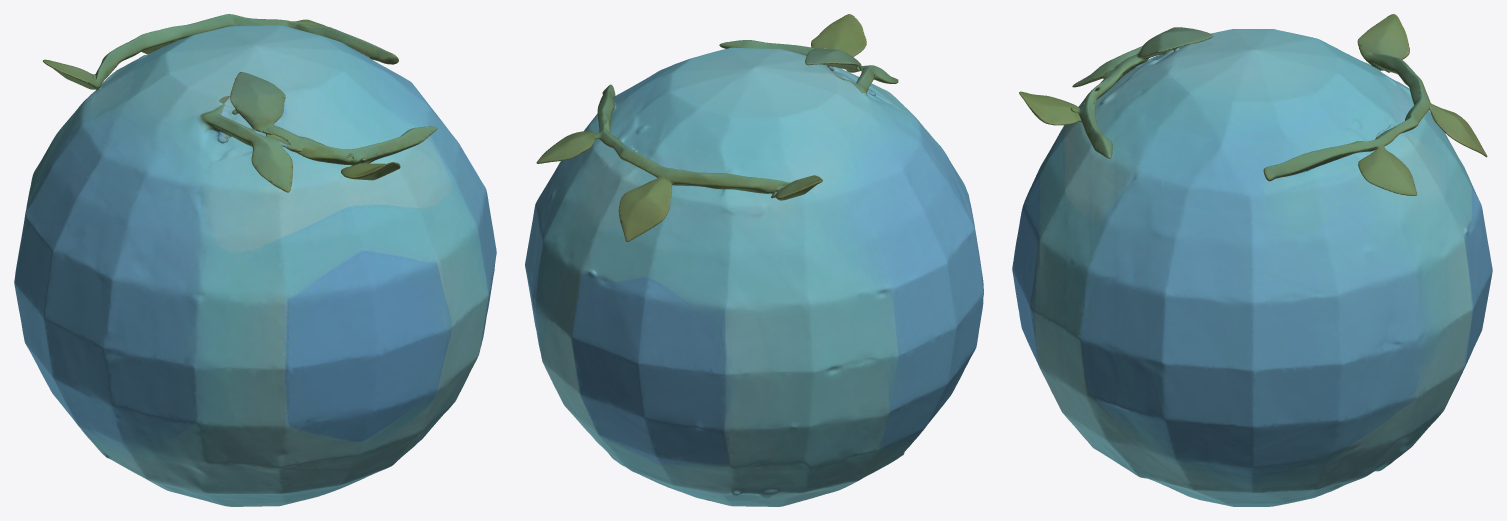
The model's file is rim_wisp.glb.
The picture shows the model from 3 angles, left to right: view 1: azimuth 30°, elevation 25°; view 2: azimuth 150°, elevation 25°; view 3: azimuth 270°, elevation 25°; orthographic projection. The views are drawn at different scales.
Visible parts, largest first — view 1: tripo_node_d36a73a2-6323-48ec-b57c-e87cc005312a; view 2: tripo_node_d36a73a2-6323-48ec-b57c-e87cc005312a; view 3: tripo_node_d36a73a2-6323-48ec-b57c-e87cc005312a.
Boxes of the visible parts, box(x1,y1,x2,y2) form: tripo_node_d36a73a2-6323-48ec-b57c-e87cc005312a: box(14, 14, 496, 506); tripo_node_d36a73a2-6323-48ec-b57c-e87cc005312a: box(525, 14, 983, 506); tripo_node_d36a73a2-6323-48ec-b57c-e87cc005312a: box(1012, 14, 1492, 506).
Size of the model in its own units: 1 by 0.9944 by 0.9934.
1 material, 1 textured.
